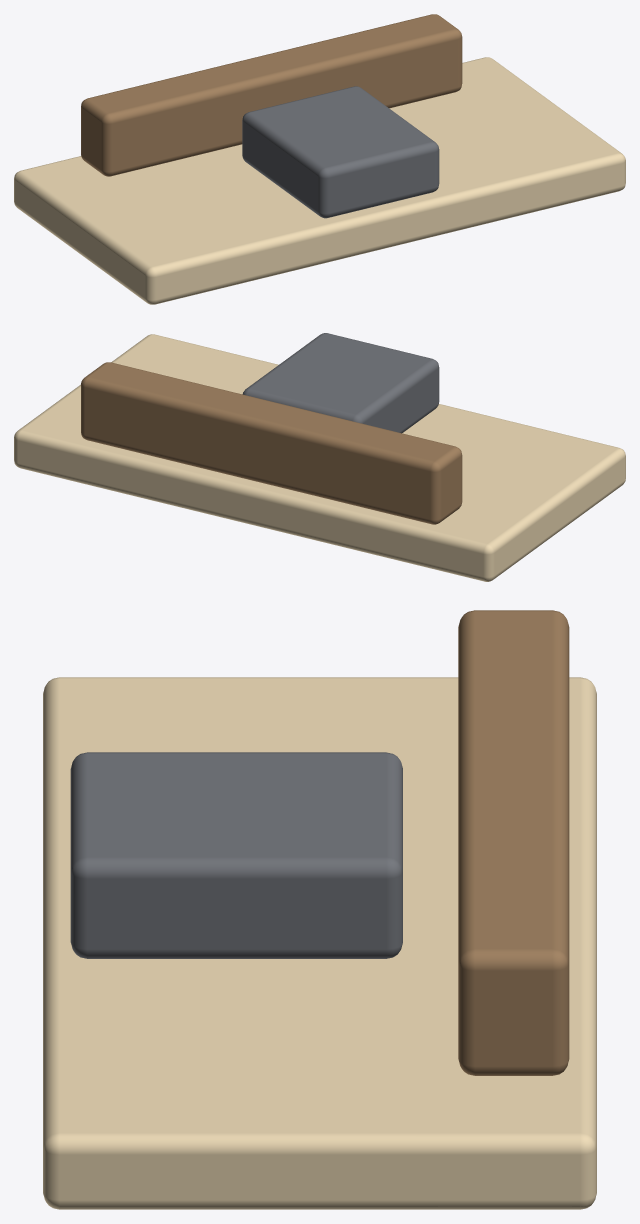
File: marquetry-and-veneer-inlay-workshop-edge-flush-trimmin-3623edd5__39128.glb
The picture shows the model from 3 angles, top to bottom: view 1: azimuth 30°, elevation 25°; view 2: azimuth 150°, elevation 25°; view 3: azimuth 270°, elevation 25°; orthographic projection. The views are drawn at different scales.
Parts seen in each view (by area): view 1: edge-flush-trimming-sled; view 2: edge-flush-trimming-sled; view 3: edge-flush-trimming-sled.
Boxes of the visible parts, x1,y1,x2,y2 form: edge-flush-trimming-sled: (14, 14, 625, 304); edge-flush-trimming-sled: (14, 333, 625, 581); edge-flush-trimming-sled: (43, 610, 596, 1209).
Size of the model in its own units: 0.4 by 0.08 by 0.2.
